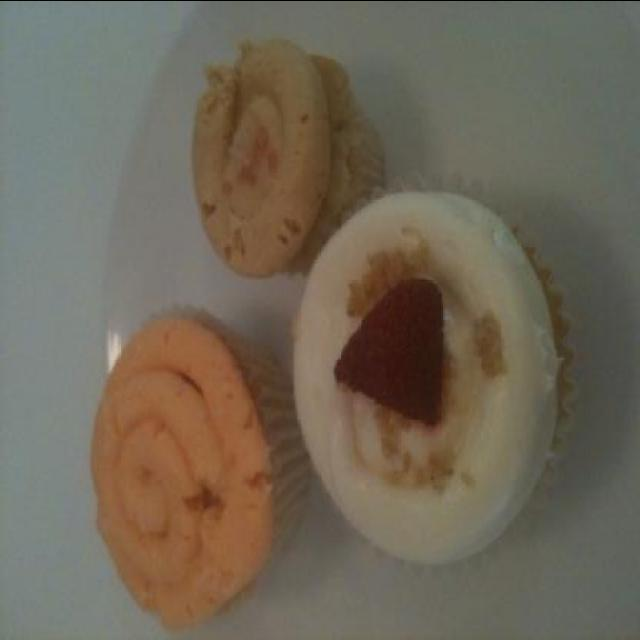Muffin: (288, 172, 582, 580), (91, 300, 314, 632), (189, 30, 385, 282)
